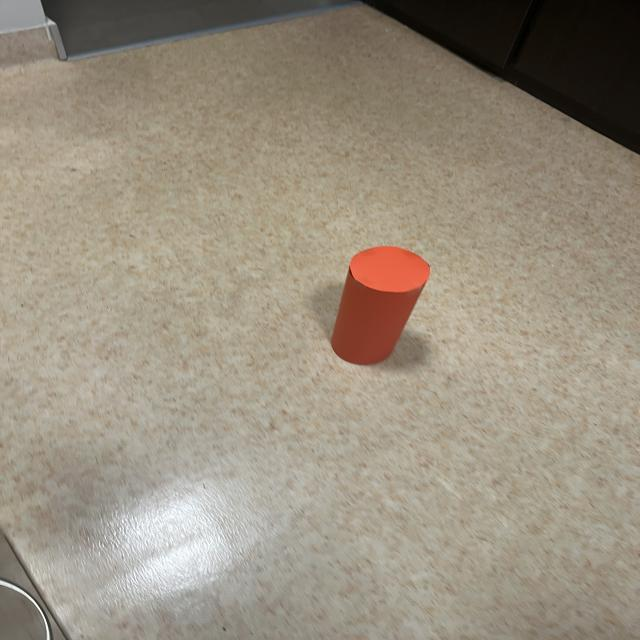przeszkoda: (331, 246, 430, 365)
